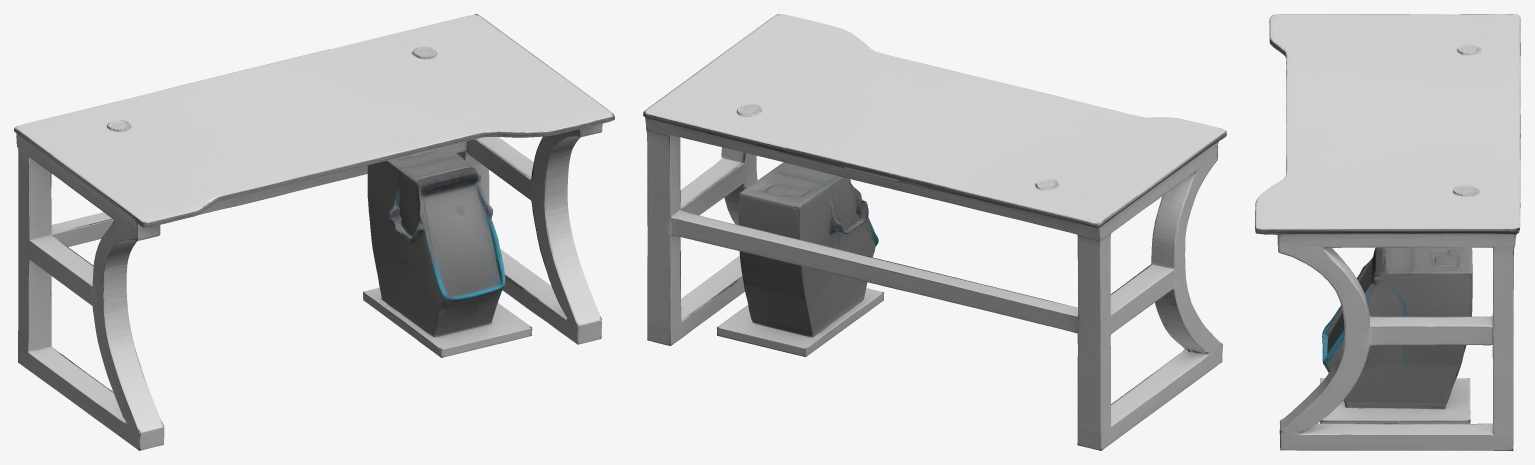
The model's file is table.glb.
3 views of the same model, side by side, from view 1: azimuth 30°, elevation 25°; view 2: azimuth 150°, elevation 25°; view 3: azimuth 270°, elevation 25° (orthographic). The views are drawn at different scales.
Parts seen in each view (by area): view 1: world; view 2: world; view 3: world.
Boxes of the visible parts, left/top/right/bottom form: world: left=14, top=14, right=614, bottom=450; world: left=643, top=14, right=1226, bottom=450; world: left=1255, top=14, right=1520, bottom=450.
Size of the model in its own units: 1 by 0.4854 by 0.5207.
1 material, 1 textured.
